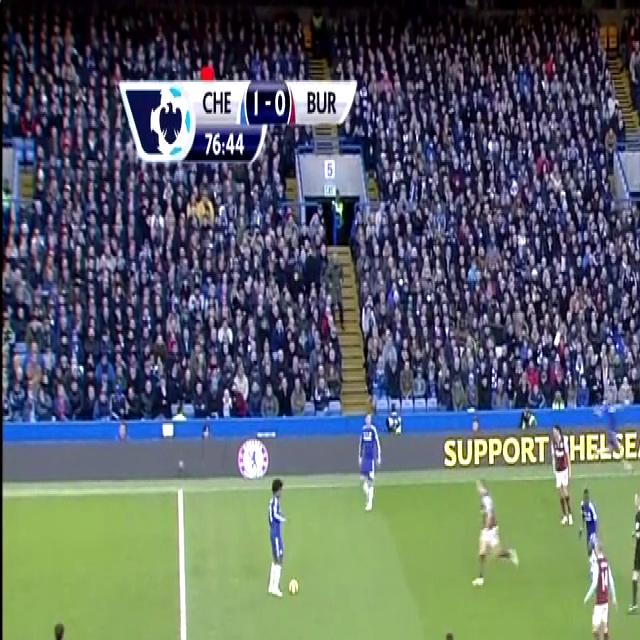ball: (287, 568, 303, 604)
referee: (625, 482, 640, 617)
soccer-player: (466, 471, 518, 593), (260, 471, 296, 608), (354, 400, 387, 522), (581, 540, 620, 640), (546, 417, 576, 532), (575, 483, 603, 565), (34, 606, 83, 640), (410, 624, 479, 640)
